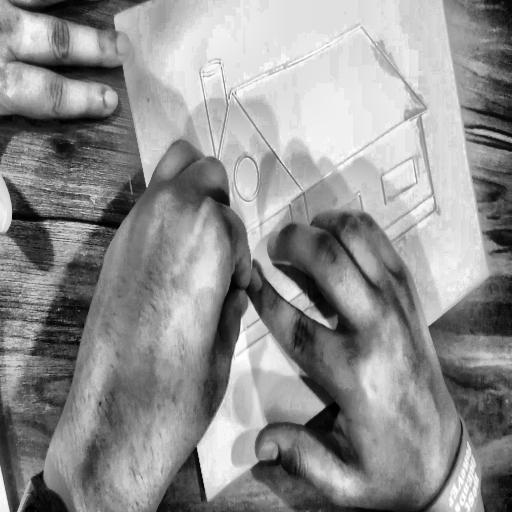bottom_left: (203, 488, 216, 510)
bottom_right: (484, 265, 495, 282)
house: (160, 6, 479, 386)
